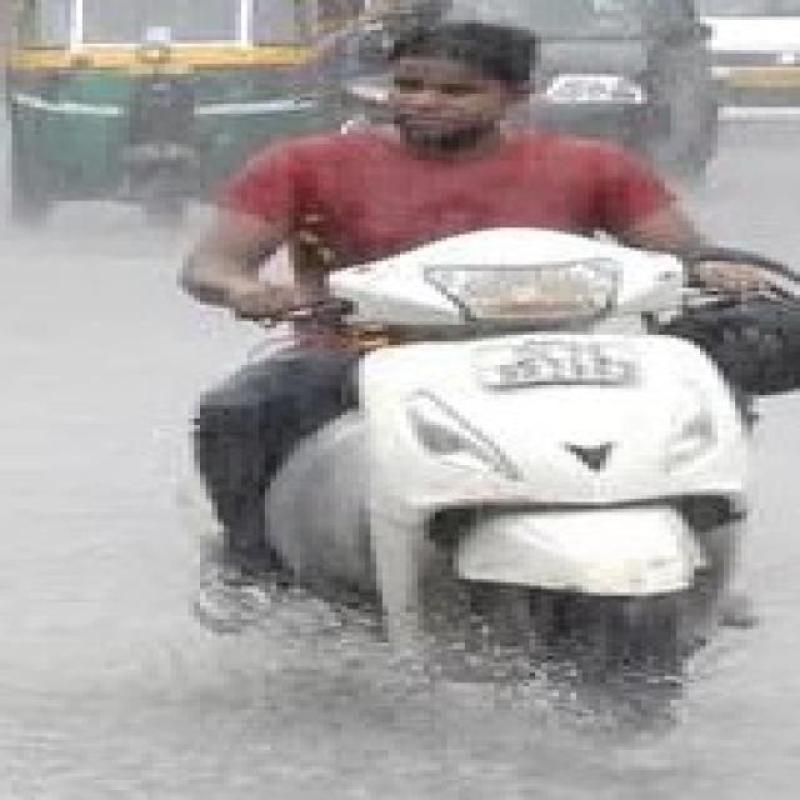nohelmet: (336, 18, 578, 164)
